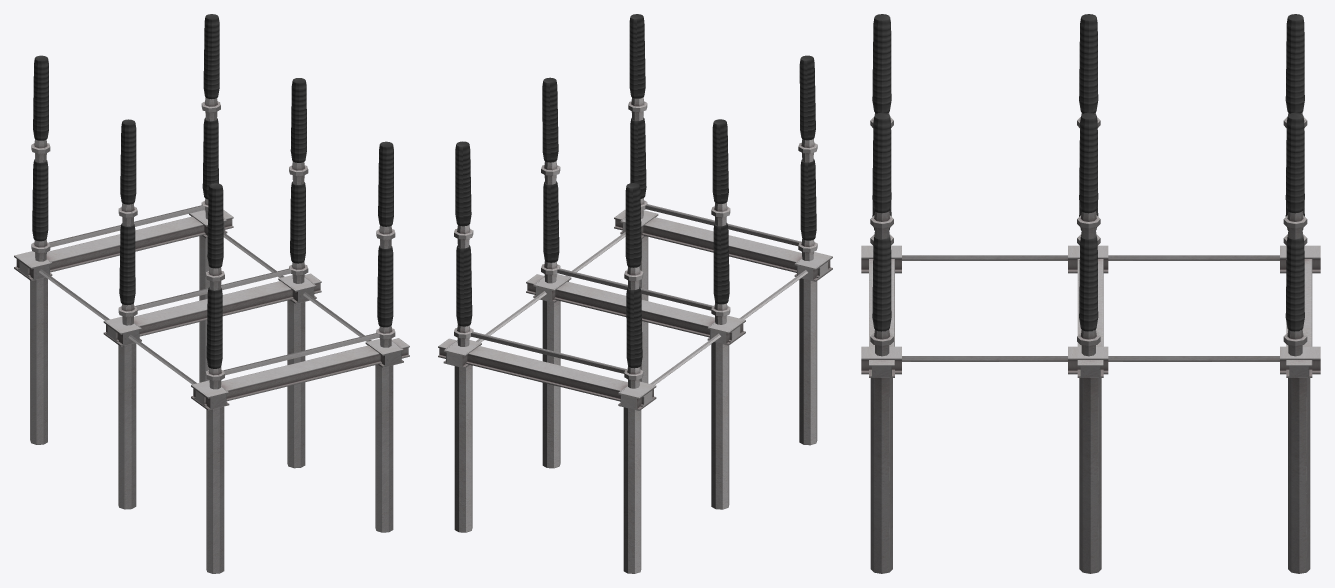
File: substation_ht_1005_05.obj
3 renders of one model, left to right at view 1: azimuth 30°, elevation 25°; view 2: azimuth 150°, elevation 25°; view 3: azimuth 270°, elevation 25°, orthographic. The views are drawn at different scales.
Size of the model in its own units: 16.35 by 29.23 by 26.75.
Materials: 2 (2 with a texture image).
